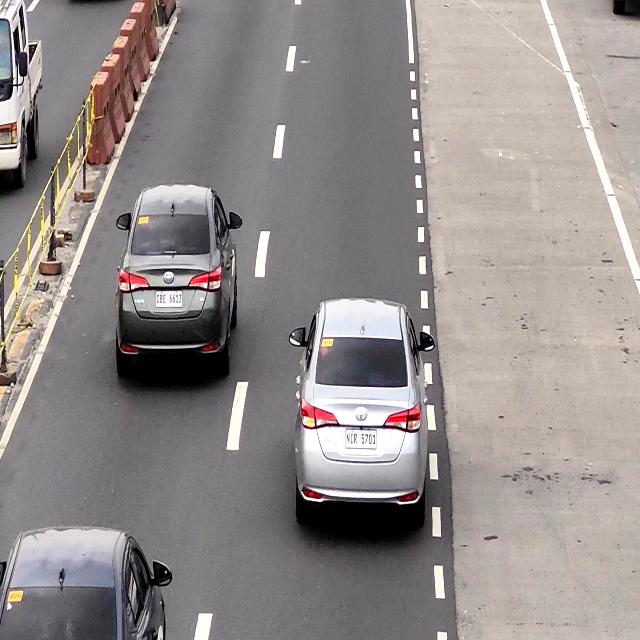Car: (300, 300, 424, 525), (116, 187, 234, 374), (0, 529, 165, 640)
License-Plate: (346, 430, 377, 450), (154, 292, 183, 308)
